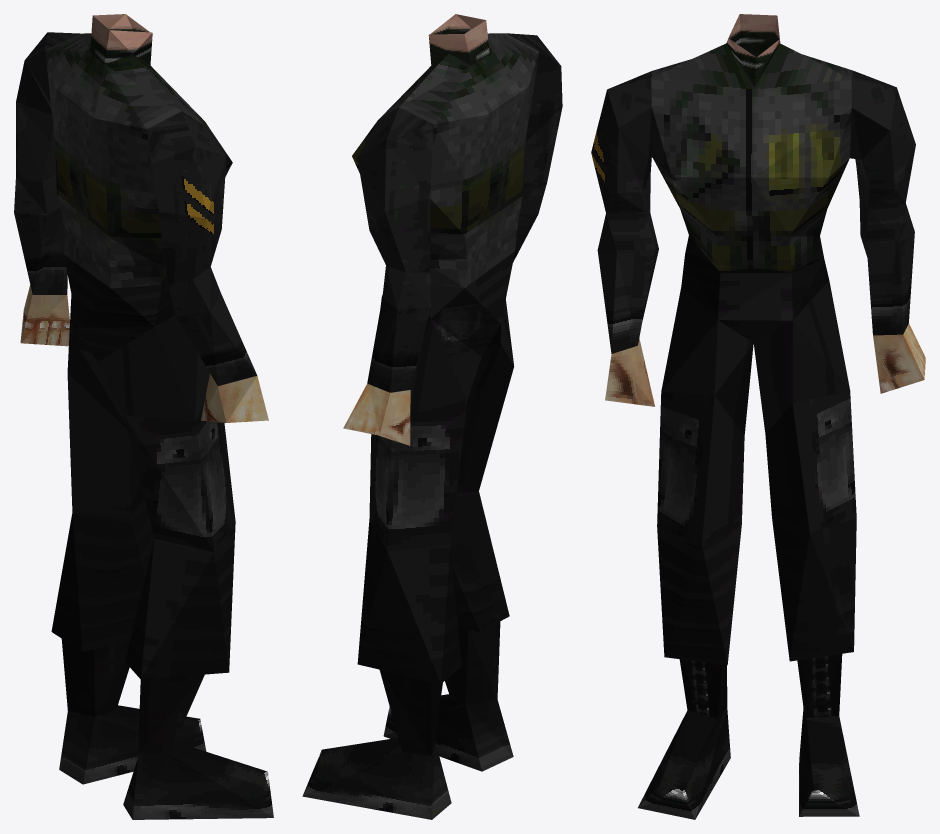
Rendered from primary_036.glb.
The picture shows the model from 3 angles, left to right: view 1: azimuth 30°, elevation 25°; view 2: azimuth 150°, elevation 25°; view 3: azimuth 270°, elevation 25°; orthographic projection. The views are drawn at different scales.
Parts seen in each view (by area): view 1: Object; view 2: Object; view 3: Object.
Boxes of the visible parts, x1,y1,x2,y2 form: Object: (14,14,273,819); Object: (302,14,562,819); Object: (591,14,925,819).
Bounding box in the file's own units: 0.3885 × 1.83 × 0.7426.
74 materials, 74 textured.
